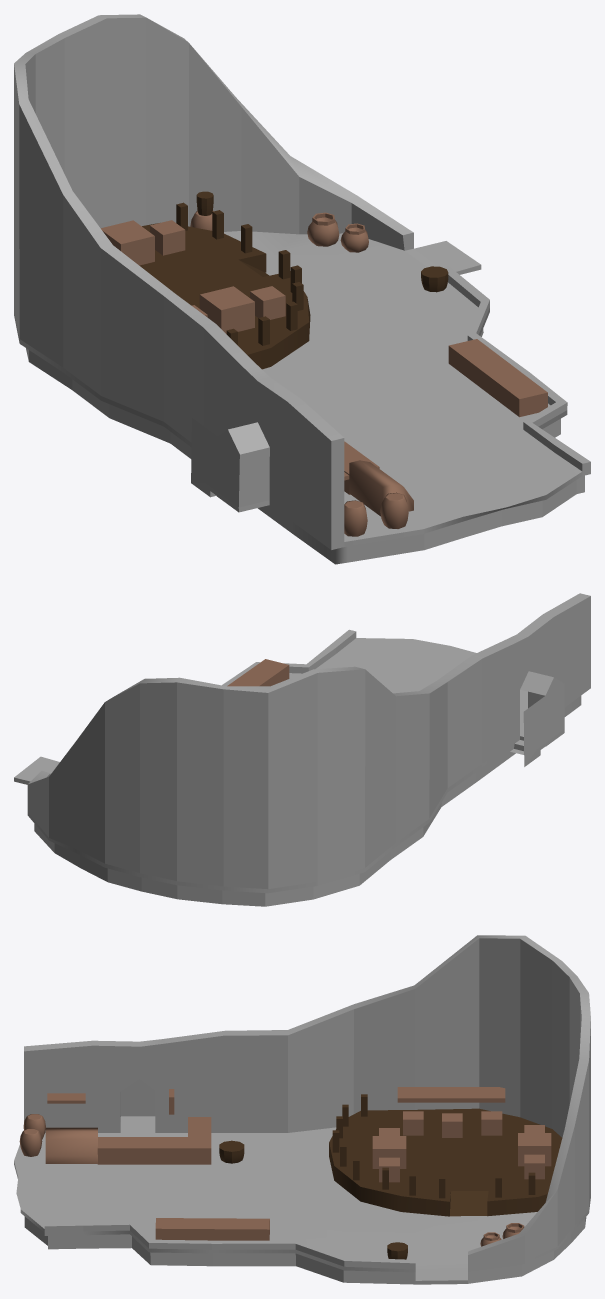
Rendered from escenario_cafeteria.fbx.
The picture shows the model from 3 angles, top to bottom: view 1: azimuth 30°, elevation 25°; view 2: azimuth 150°, elevation 25°; view 3: azimuth 270°, elevation 25°; orthographic projection. The views are drawn at different scales.
Visible parts, largest first — view 1: baseEscenario, mesas_estanterias, plataforma, barandilla, mesa_cajero, barriles, tinajas, macetas; view 2: baseEscenario, mesas_estanterias; view 3: baseEscenario, plataforma, mesas_estanterias, mesa_cajero, barandilla, barriles, macetas.
Part boxes in pixels (left/top/right/bottom): baseEscenario: left=14, top=14, right=590, bottom=564; mesas_estanterias: left=101, top=220, right=547, bottom=480; plataforma: left=139, top=223, right=310, bottom=369; barandilla: left=176, top=202, right=303, bottom=345; mesa_cajero: left=344, top=441, right=413, bottom=516; barriles: left=190, top=210, right=408, bottom=536; tinajas: left=307, top=212, right=368, bottom=252; macetas: left=196, top=191, right=448, bottom=292; baseEscenario: left=14, top=593, right=590, bottom=906; mesas_estanterias: left=227, top=659, right=289, bottom=686; baseEscenario: left=14, top=935, right=590, bottom=1284; plataforma: left=329, top=1108, right=562, bottom=1216; mesas_estanterias: left=47, top=1087, right=551, bottom=1240; mesa_cajero: left=45, top=1117, right=211, bottom=1164; barandilla: left=332, top=1094, right=555, bottom=1198; barriles: left=19, top=1114, right=45, bottom=1156; macetas: left=219, top=1140, right=407, bottom=1259.
Bounding box in the file's own units: 2.59 × 1.56 × 3.84.
